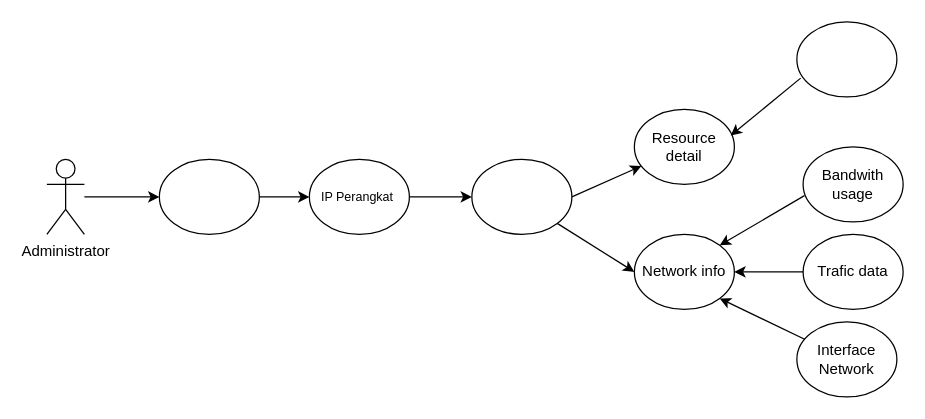
This 925x419 diagram has some shape labels left out. Each missing label, with the box of its shape:
Halaman menu: (471, 158, 572, 234)
Informasi perangkat: (796, 21, 897, 97)
Login: (158, 158, 259, 234)
